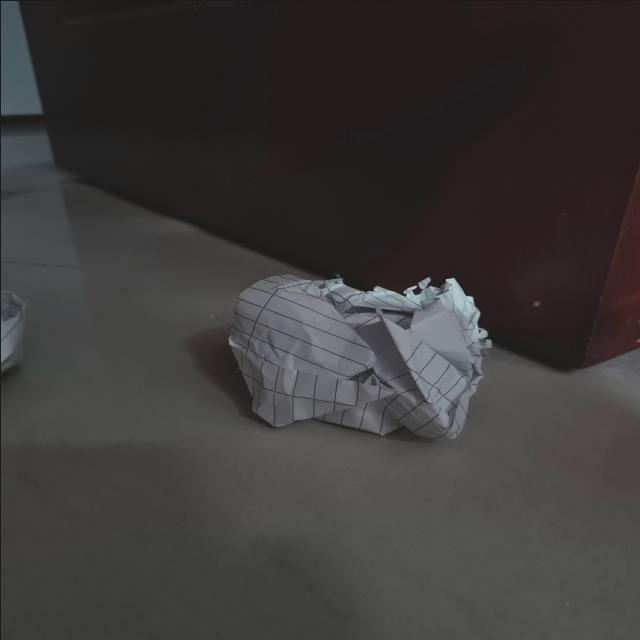Paper: (185, 216, 506, 452)
